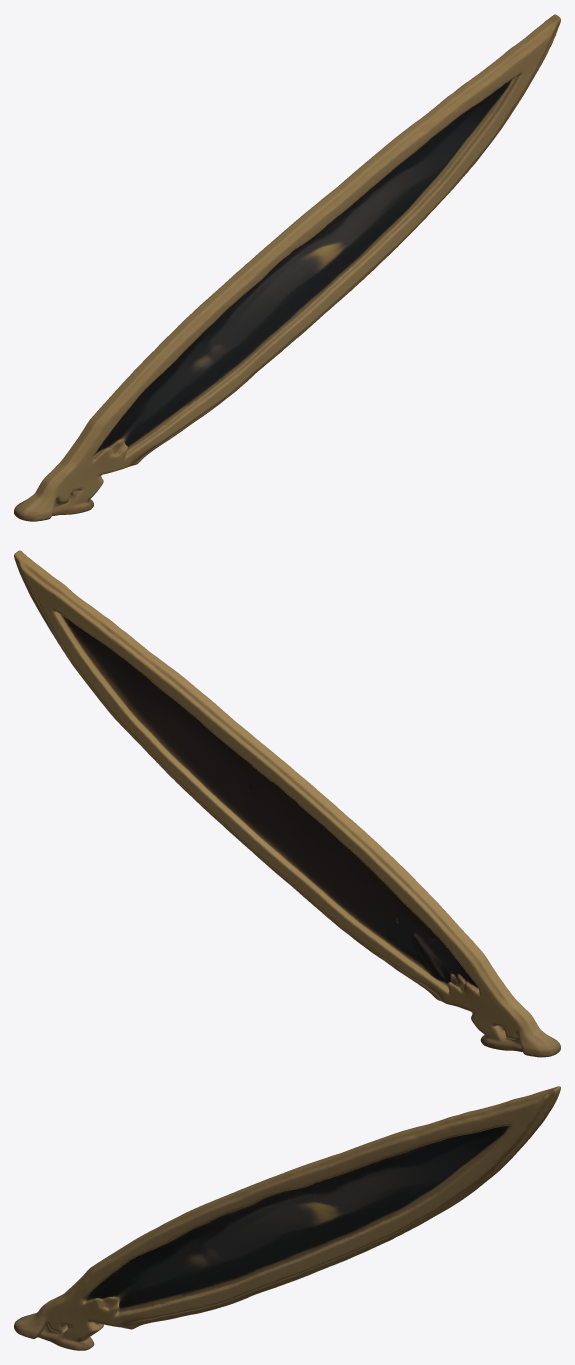
Rendered from ear_single_ref-12.glb.
3 renders of one model, top to bottom at view 1: azimuth 30°, elevation 25°; view 2: azimuth 150°, elevation 25°; view 3: azimuth 330°, elevation 25°, orthographic.
Size of the model in its own units: 1 by 0.663 by 0.055.
Materials: 1 (1 with a texture image).
